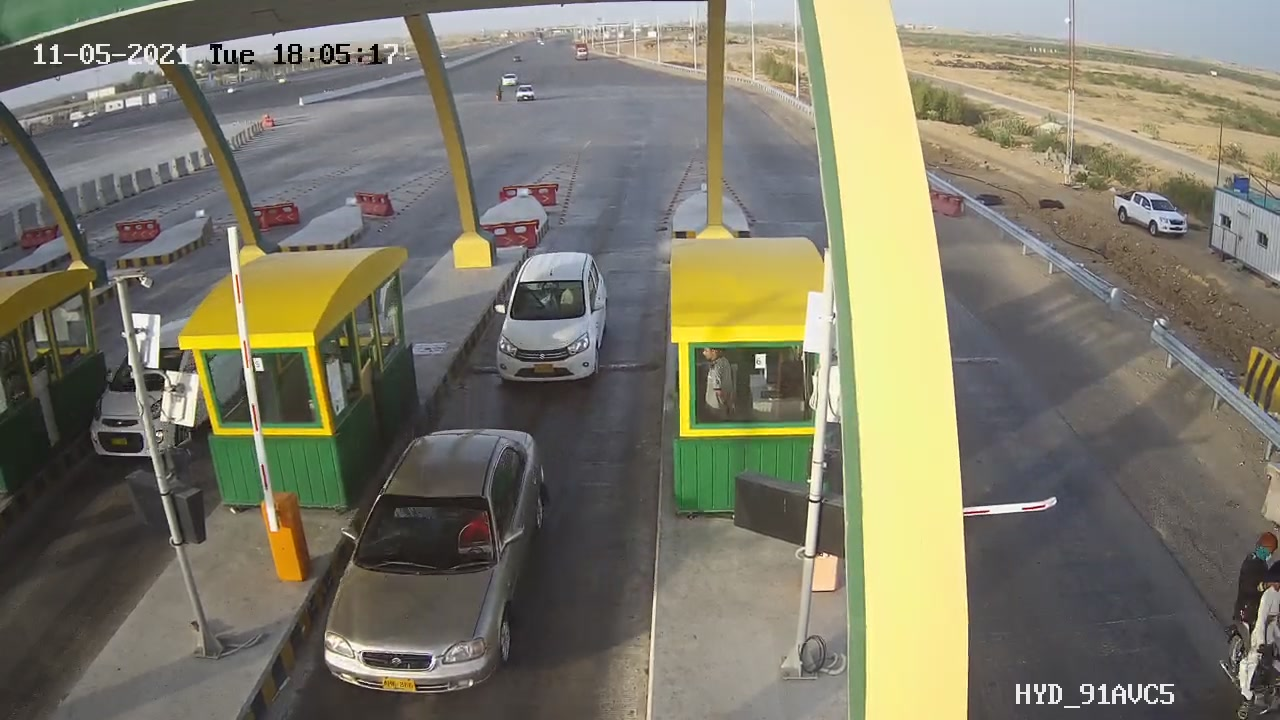F1: (481, 243, 630, 416)
